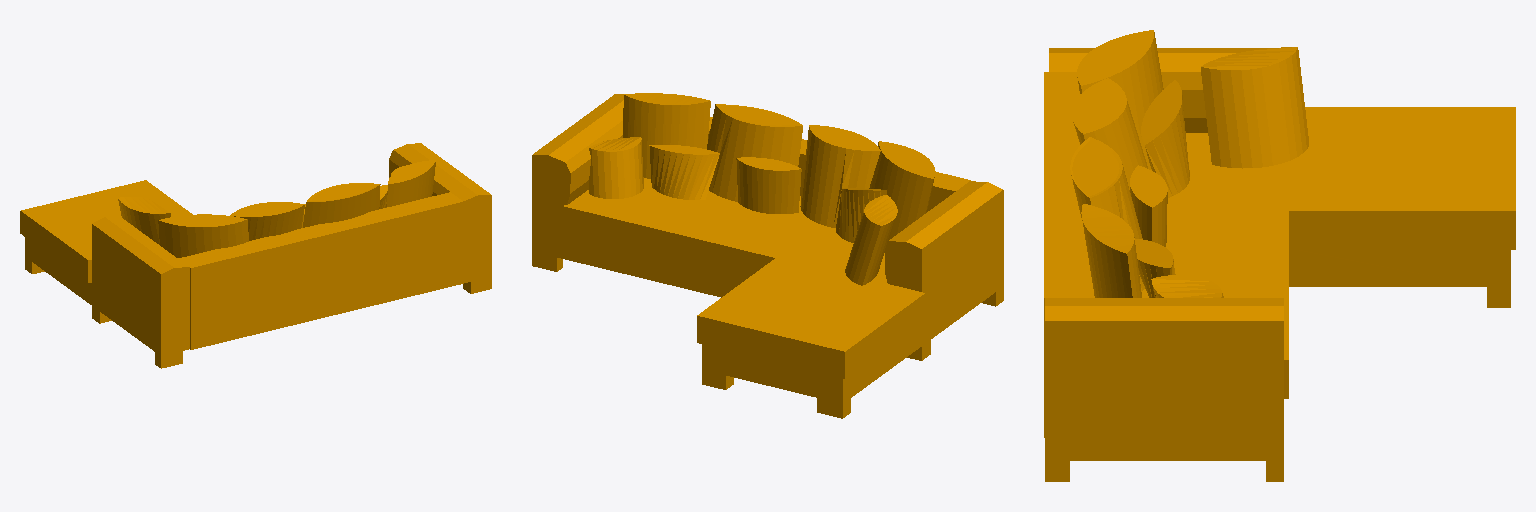
The robot description file, URDF, robot "3d95d6237ea6db97afa2904116693357":
<?xml version="1.0" ?>
<robot name="3d95d6237ea6db97afa2904116693357">

  <link name="base">

    <inertial>
      <mass value="1"/>
      <inertia ixx="1" ixy="0" ixz="0" iyy="1" iyz="0" izz="1"/>
    </inertial>

    <visual>
      <origin rpy="1.57079 0 0" xyz="0 0 0.31"/>
      <geometry>
        <mesh filename ="models/model_normalized.obj" scale="2 2 2"/>
      </geometry>
    </visual>

    <collision>
      <origin rpy="1.57079 0 0" xyz="0 0 0.31"/>
      <geometry>
        <mesh filename ="models/model_normalized.obj" scale="2 2 2"/>
      </geometry>
    </collision>

  </link>
  
</robot>

--- Facts derived from the render (not from the file) ---
Views: 3 orthographic renders of the robot side by side, from view 1: azimuth 30°, elevation 25°; view 2: azimuth 150°, elevation 25°; view 3: azimuth 270°, elevation 25°.
Robot: 3d95d6237ea6db97afa2904116693357 — 1 links, 0 joints (none); root link base; default pose: every joint at zero.
Links seen in each view (by area): view 1: base; view 2: base; view 3: base.
Boxes of the visible links, x1=… form: base: x1=20, y1=143, x2=491, y2=368; base: x1=532, y1=93, x2=1003, y2=418; base: x1=1044, y1=30, x2=1515, y2=481.
Bounding box of the posed robot: 1.56 × 1.13 × 0.5357 m (x, y, z).
1 mesh visuals loaded from 1 distinct referenced files (1 OBJ).